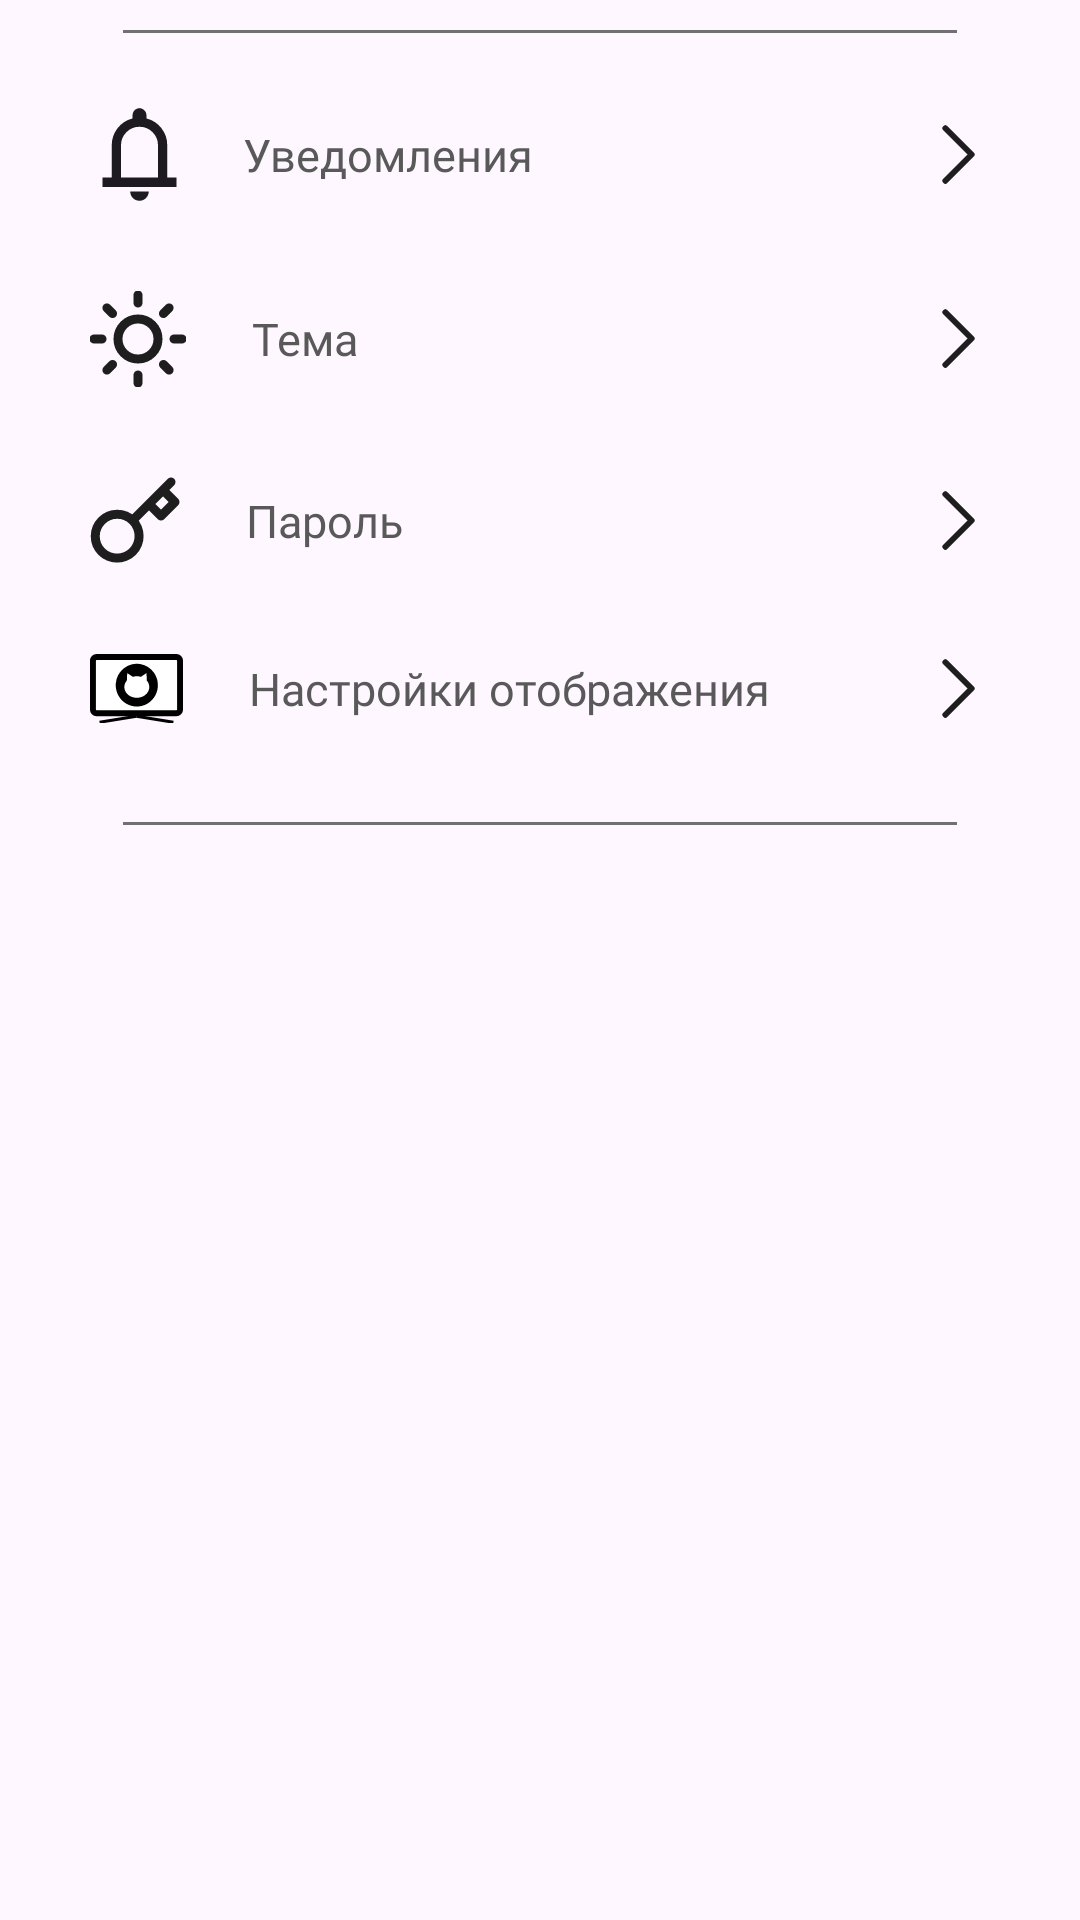

Screen size 1080px x 1920px. Icon name, then its center in pixels as (x,y):
display: (136,688)
notifications: (139,154)
password: (135,520)
themes: (138,339)
